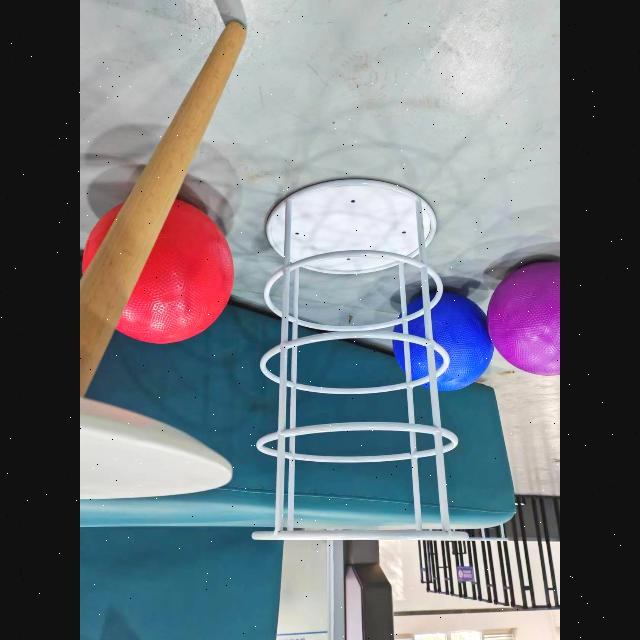B: (391, 290, 497, 396)
P: (487, 262, 560, 375)
R: (80, 194, 240, 352)
S: (254, 182, 470, 542)
